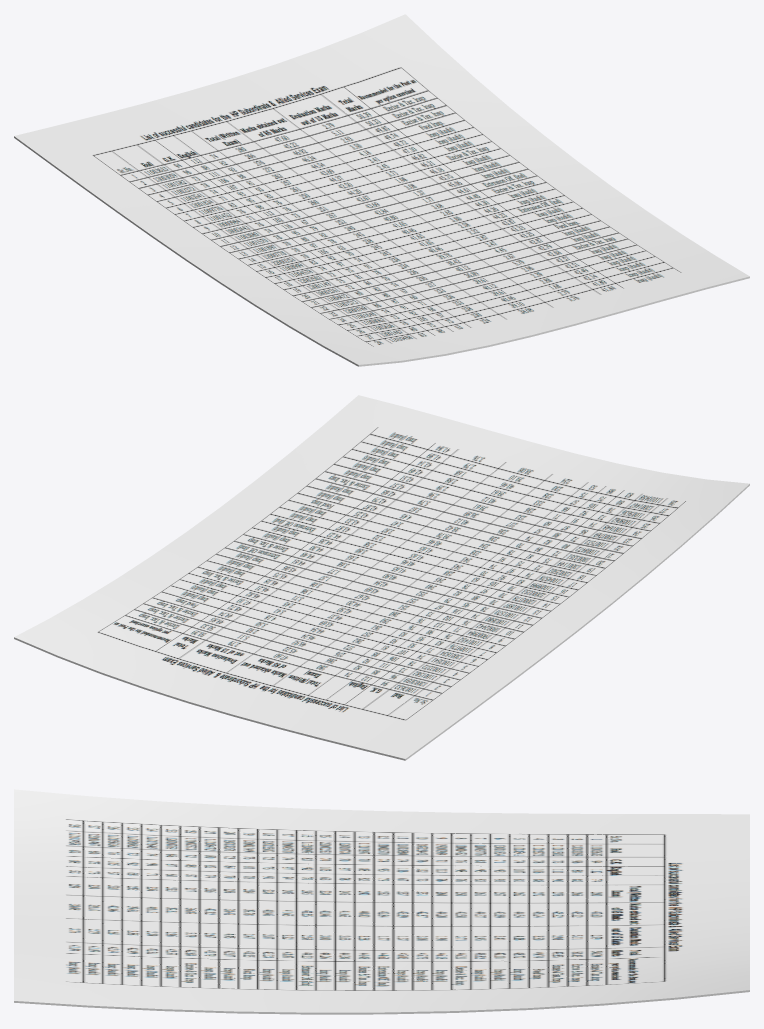
File: Paper 2.FBX
3 views of the same model, one above another, from view 1: azimuth 30°, elevation 25°; view 2: azimuth 150°, elevation 25°; view 3: azimuth 270°, elevation 25° (orthographic). The views are drawn at different scales.
Visible parts, largest first — view 1: Paper 2; view 2: Paper 2; view 3: Paper 2.
Part boxes in pixels (box(x1,y1,x2,y2)): Paper 2: box(14, 14, 749, 366); Paper 2: box(14, 395, 749, 760); Paper 2: box(14, 789, 749, 1014).
Size of the model in its own units: 21.15 by 1.45 by 32.23.
1 material, 1 textured.
